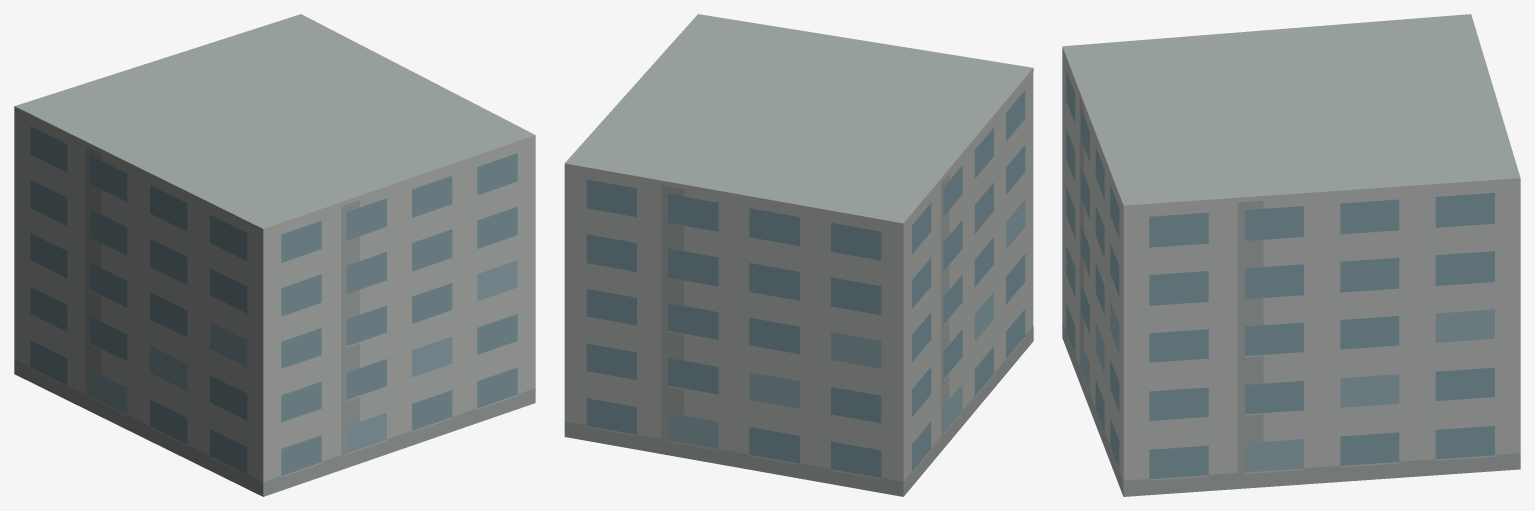
The model's file is survey-upis-32631820.glb.
The picture shows the model from 3 angles, left to right: view 1: azimuth 30°, elevation 25°; view 2: azimuth 150°, elevation 25°; view 3: azimuth 270°, elevation 25°; orthographic projection. The views are drawn at different scales.
Visible parts, largest first — view 1: survey-upis-32631820.tmp; view 2: survey-upis-32631820.tmp; view 3: survey-upis-32631820.tmp.
Part boxes in pixels (x1,y1,x2,y2): survey-upis-32631820.tmp: (14, 14, 535, 496); survey-upis-32631820.tmp: (564, 14, 1033, 496); survey-upis-32631820.tmp: (1062, 14, 1520, 496).
Bounding box in the file's own units: 20.61 × 14.6 × 20.83.
